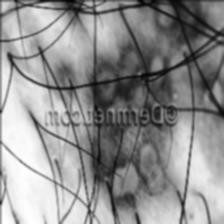Toxin: (52, 1, 179, 220), (198, 75, 224, 114)
